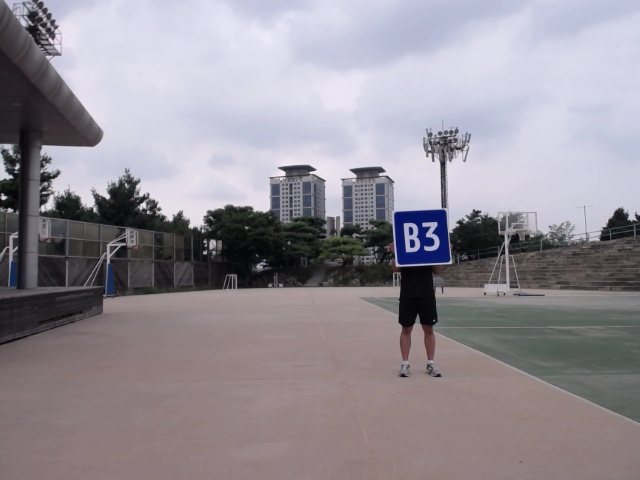delivery_b3: (391, 207, 454, 268)
